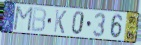0: (70, 10, 85, 36)
3: (92, 12, 107, 39)
6: (110, 13, 124, 40)
B: (30, 7, 47, 34)
K: (52, 9, 68, 35)
M: (12, 5, 34, 33)
